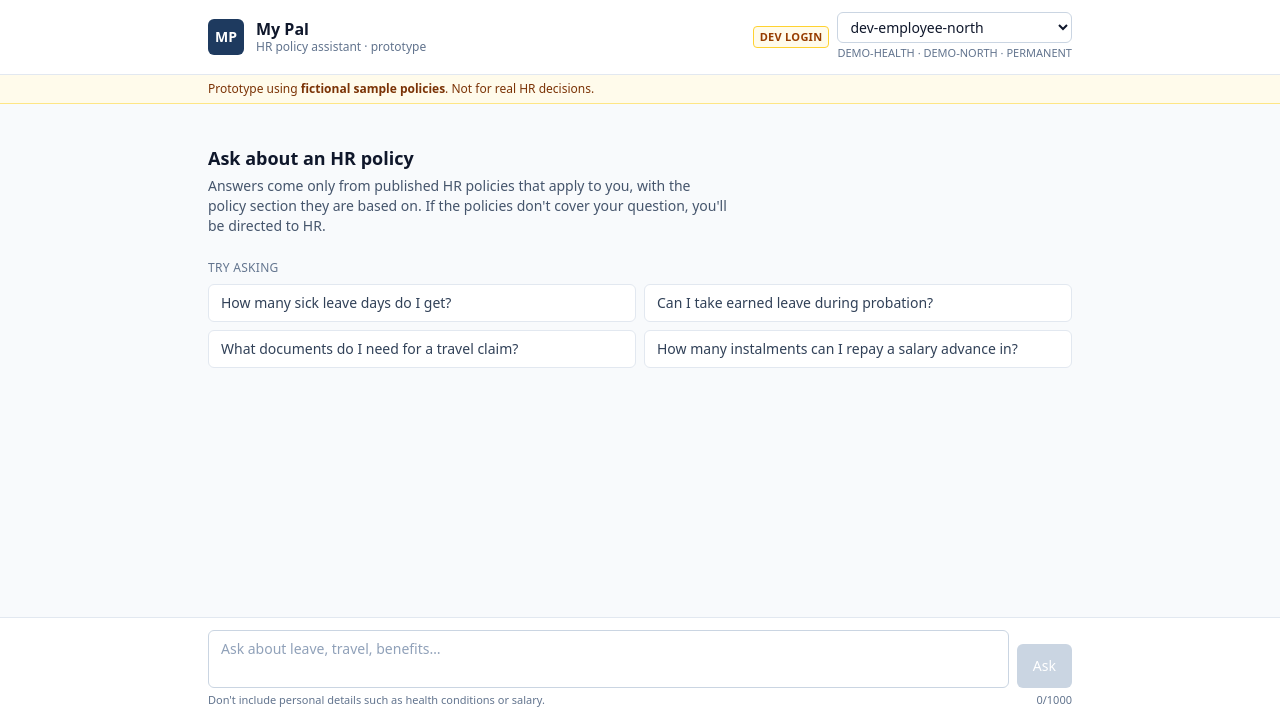
Scenario: My Pal chat › shows a cited answer and sends the test user as the login
Type "How many sick leave days do I get?" into the text box named "Your question" at (608, 658), box x1=208 y1=630 x2=1009 y2=688
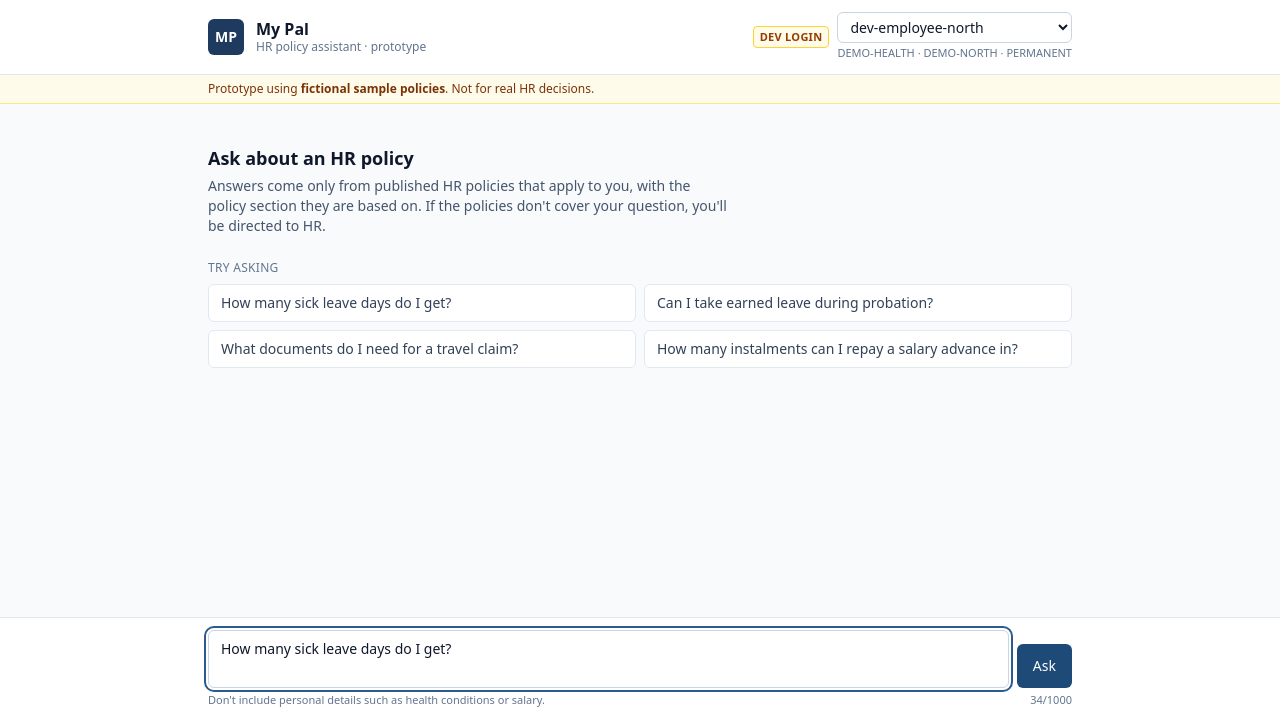
Press Enter
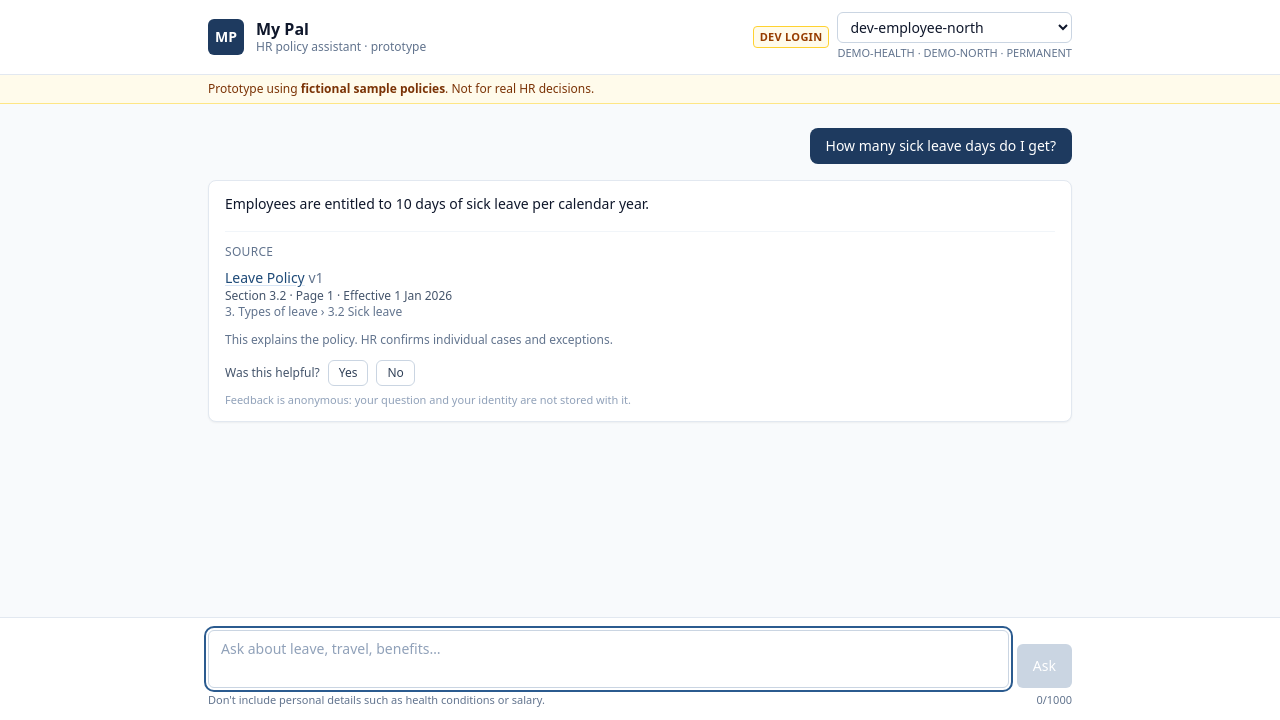
Check: the element named "Answer" shows "10 days of sick leave", box x1=225 y1=194 x2=649 y2=212
Check: the element named "Answer" shows "Section 3.2 · Page 1 · Effective 1 Jan 2026", box x1=225 y1=287 x2=452 y2=304
Check: the element named "Answer" shows "3. Types of leave › 3.2 Sick leave", box x1=225 y1=303 x2=402 y2=320
